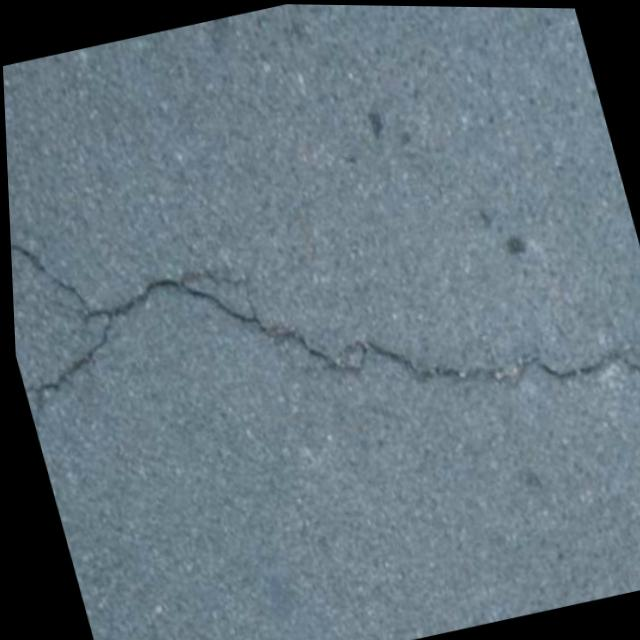Crack: (3, 92, 640, 529)
